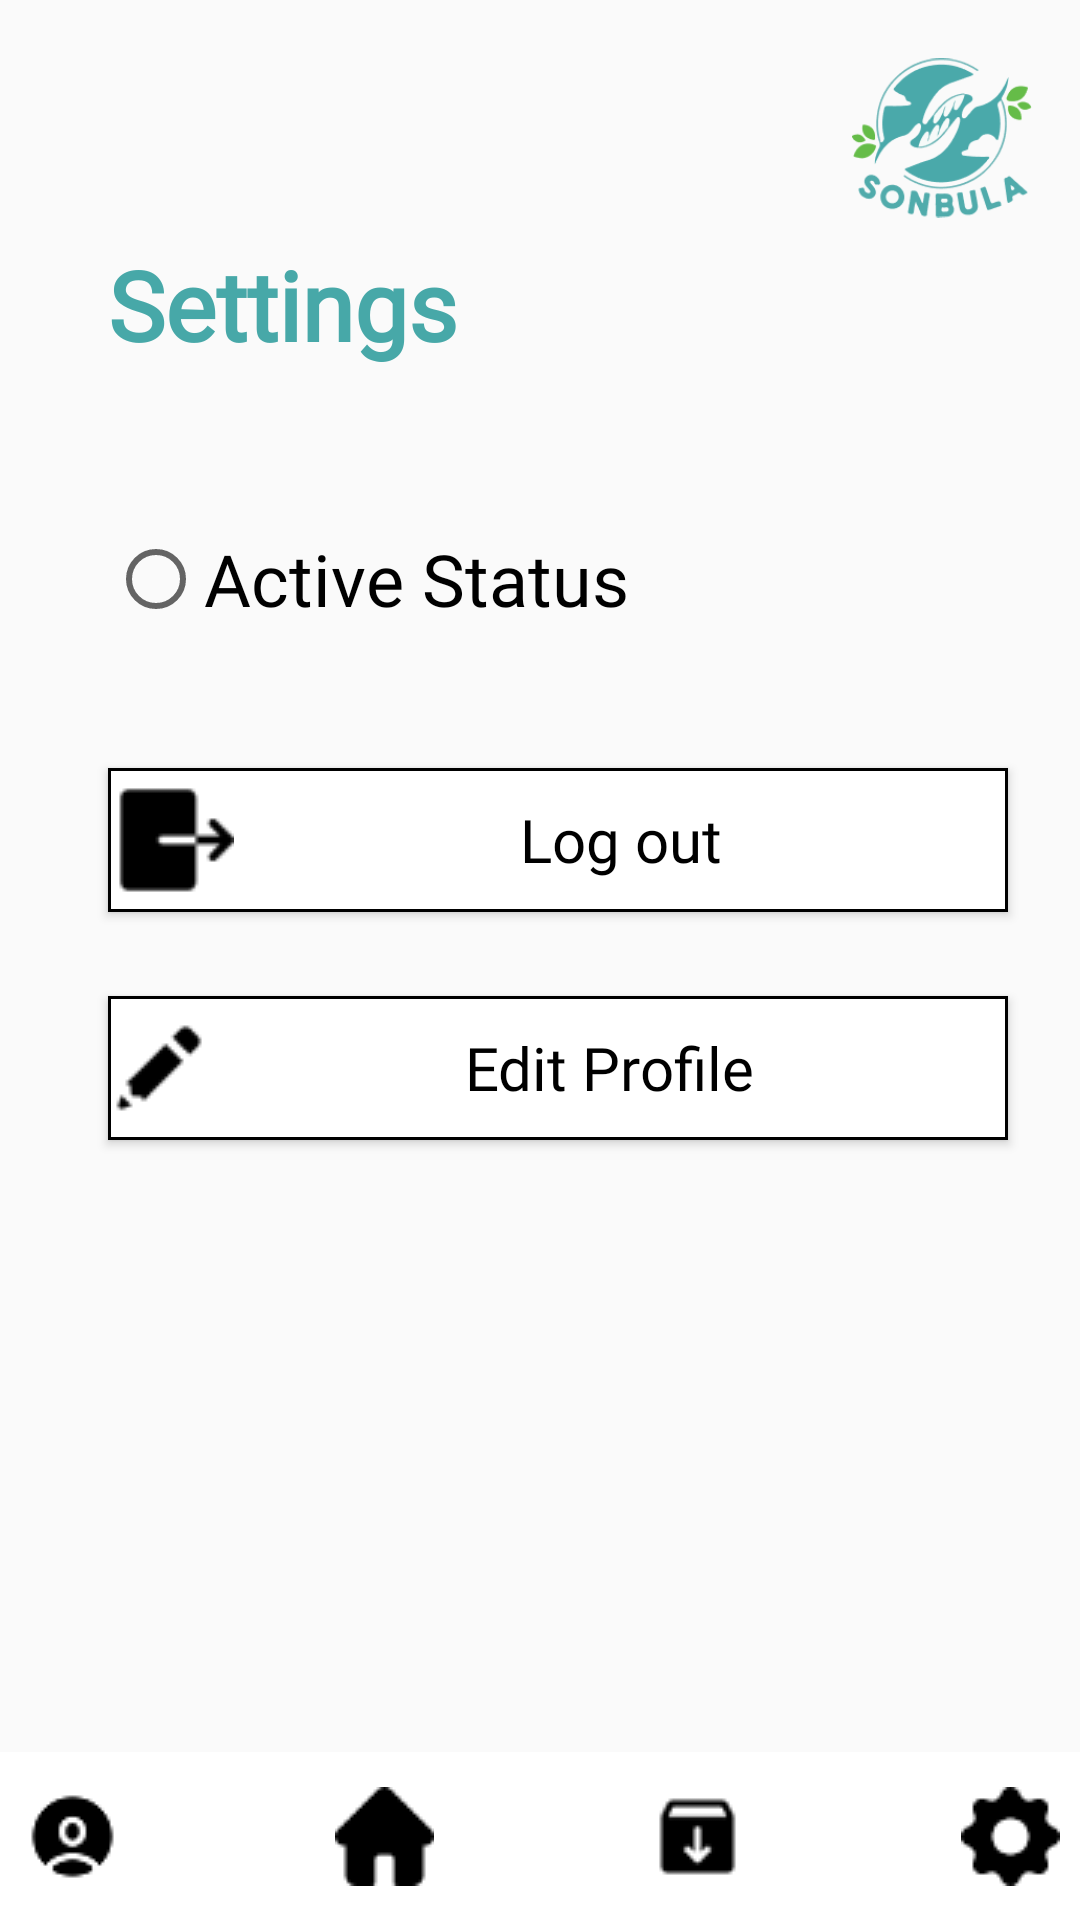

Screen size 1080×1920. Icon name, then its center in pixels as point (x, y):
downloads: point (697, 1836)
home: point (384, 1836)
